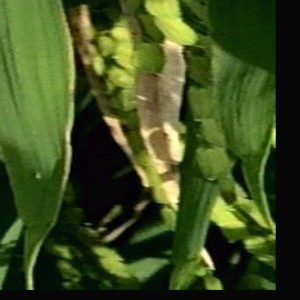Leaf_Blast: (0, 3, 75, 187)
